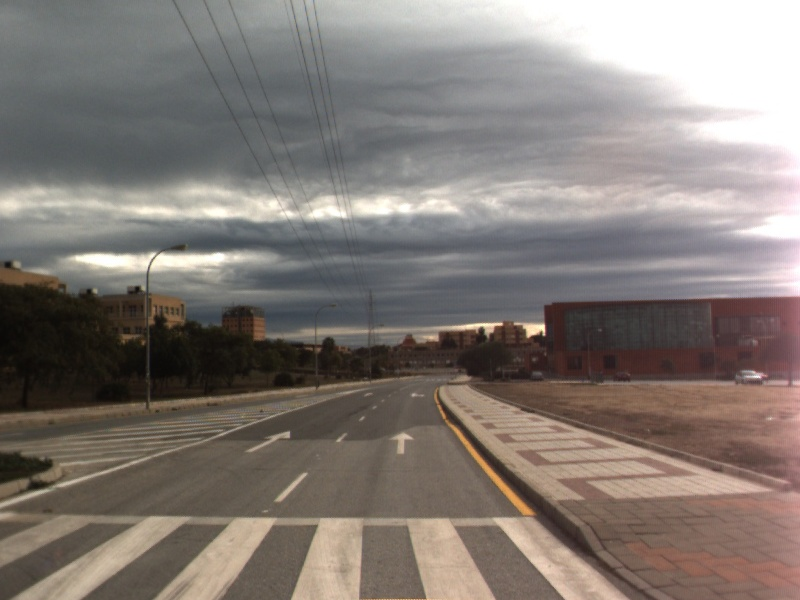STRAIGHT: (242, 429, 292, 454), (387, 430, 417, 456)
